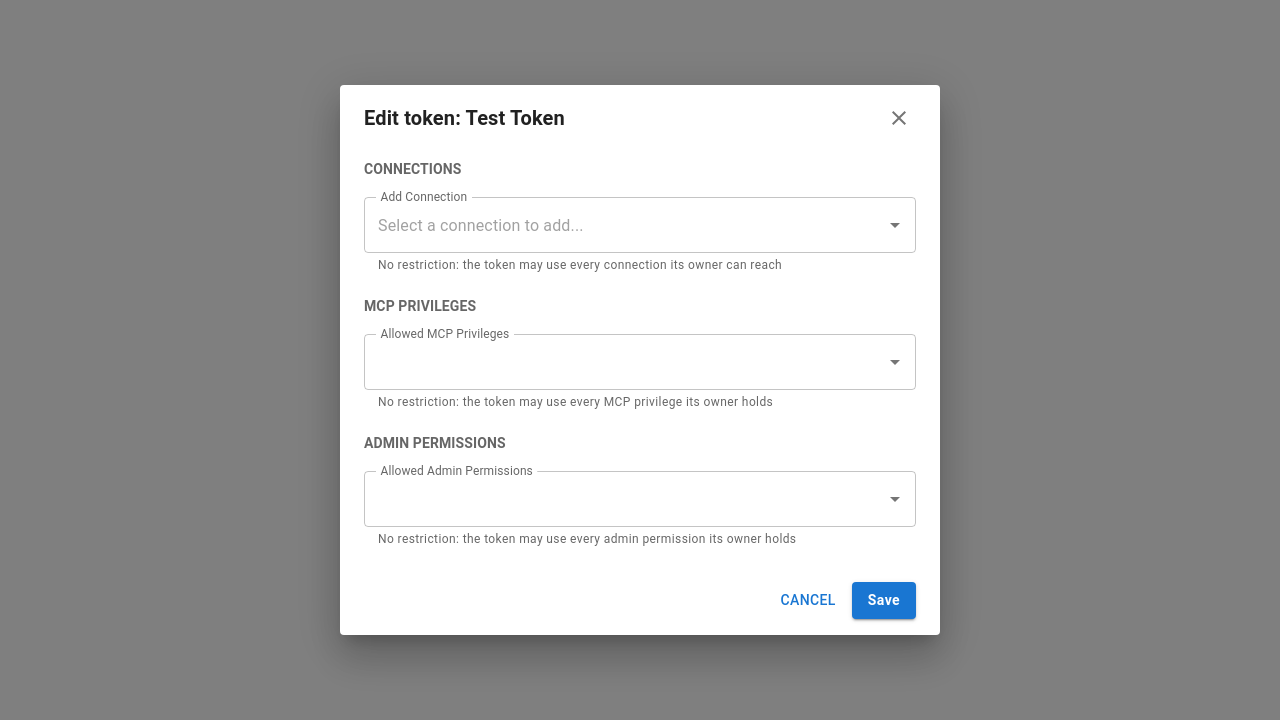
Test case: EditTokenDialog › shows connection options in autocomplete
This screenshot has width=1280, height=720.
Focus the dropdown labelled "Add Connection" at [625, 225], box x1=373 y1=206 x2=877 y2=244
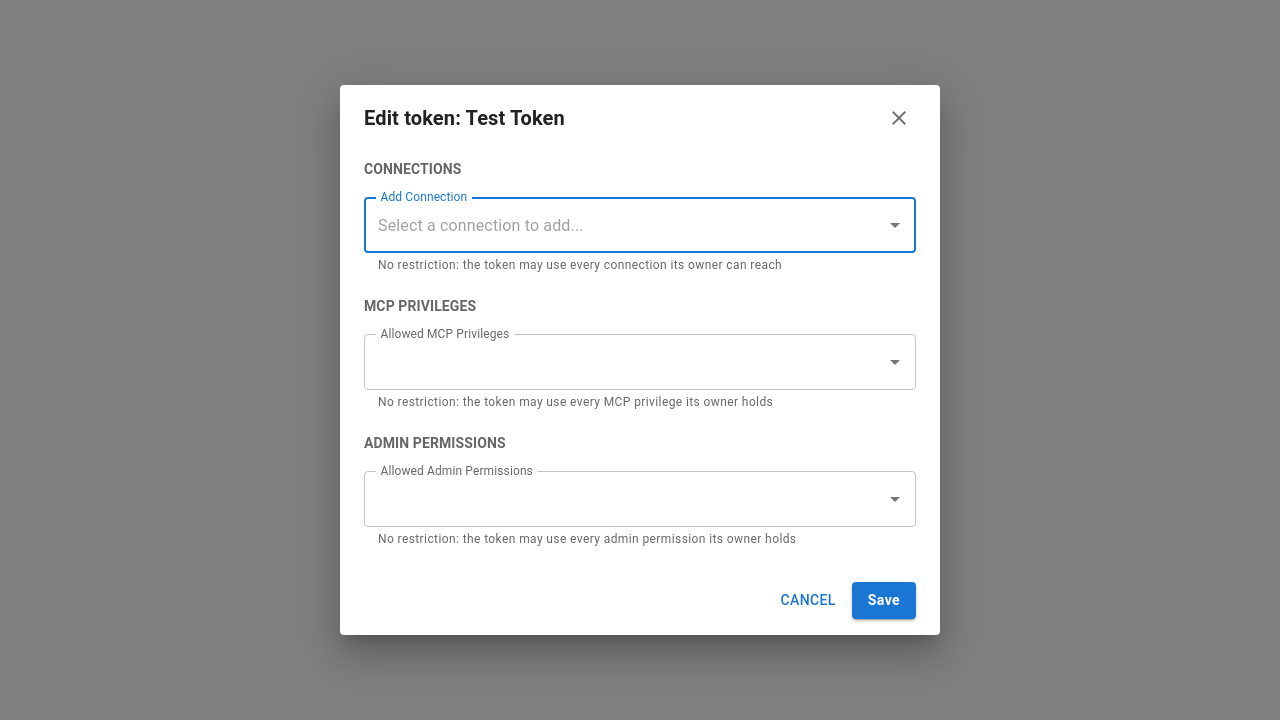
Press ArrowDown in the dropdown labelled "Add Connection", box x1=373 y1=206 x2=877 y2=244
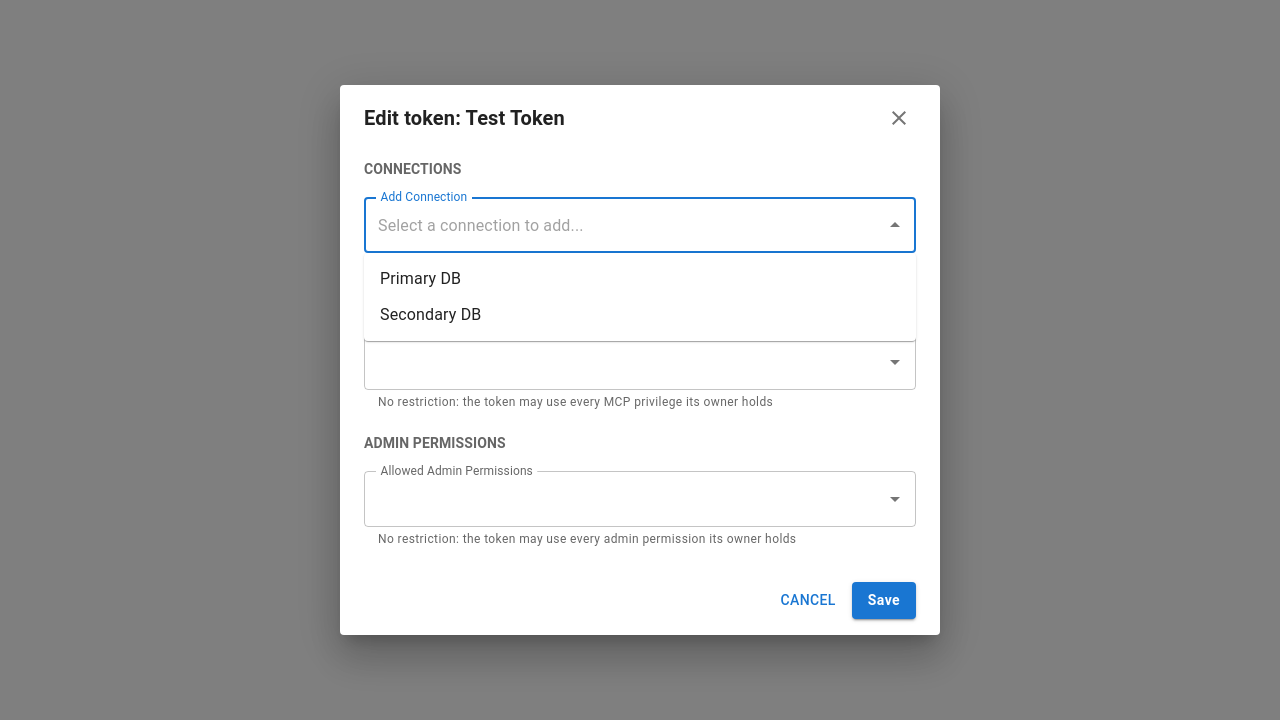
Expected: the option "Primary DB" is shown, x1=380 y1=269 x2=461 y2=288
Expected: the option "Secondary DB" is shown, x1=380 y1=305 x2=481 y2=324
